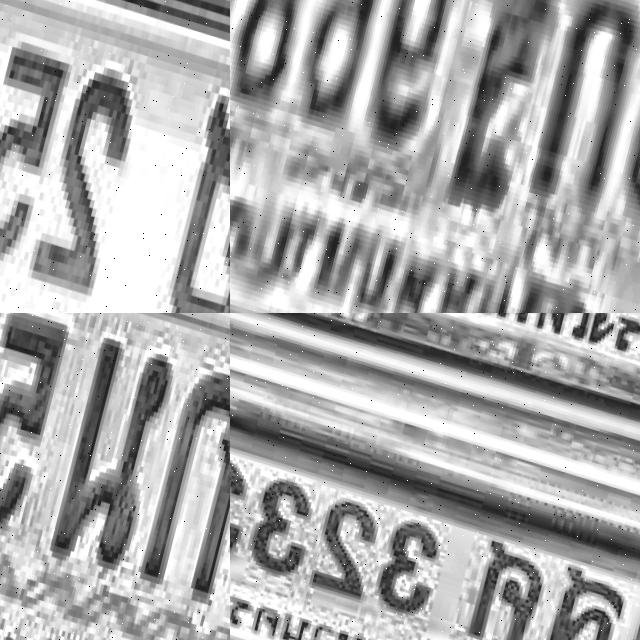license-plate: (230, 0, 640, 313), (230, 378, 640, 640), (0, 313, 230, 640), (0, 0, 230, 313), (230, 313, 640, 455)
